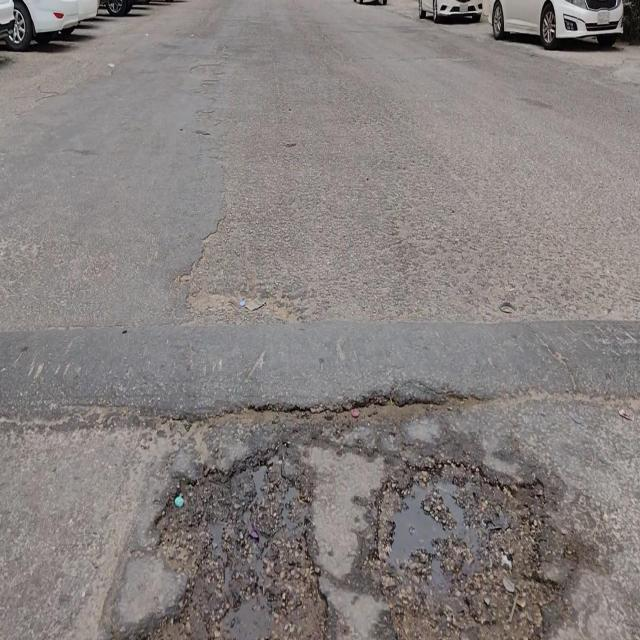Potholes: (131, 439, 333, 640), (360, 457, 559, 639)
